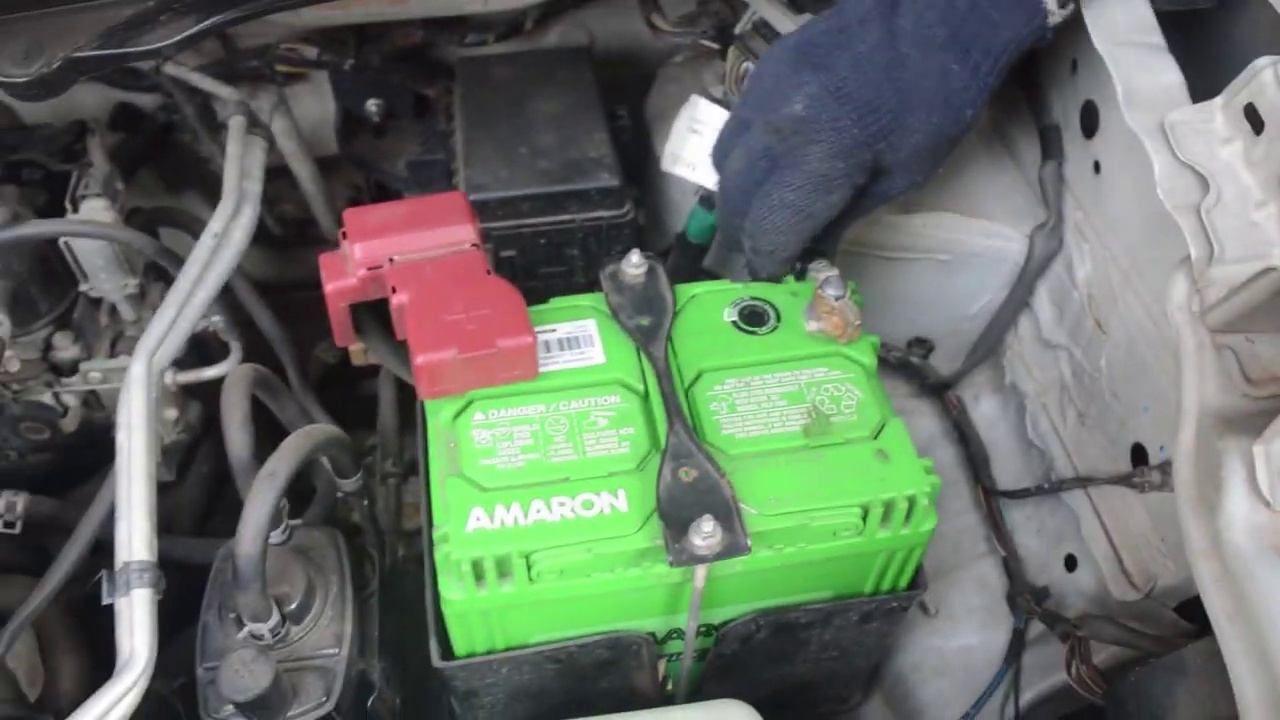battery: (382, 251, 931, 565)
neg_connected: (789, 234, 891, 349)
pos_connected: (331, 190, 551, 379)
